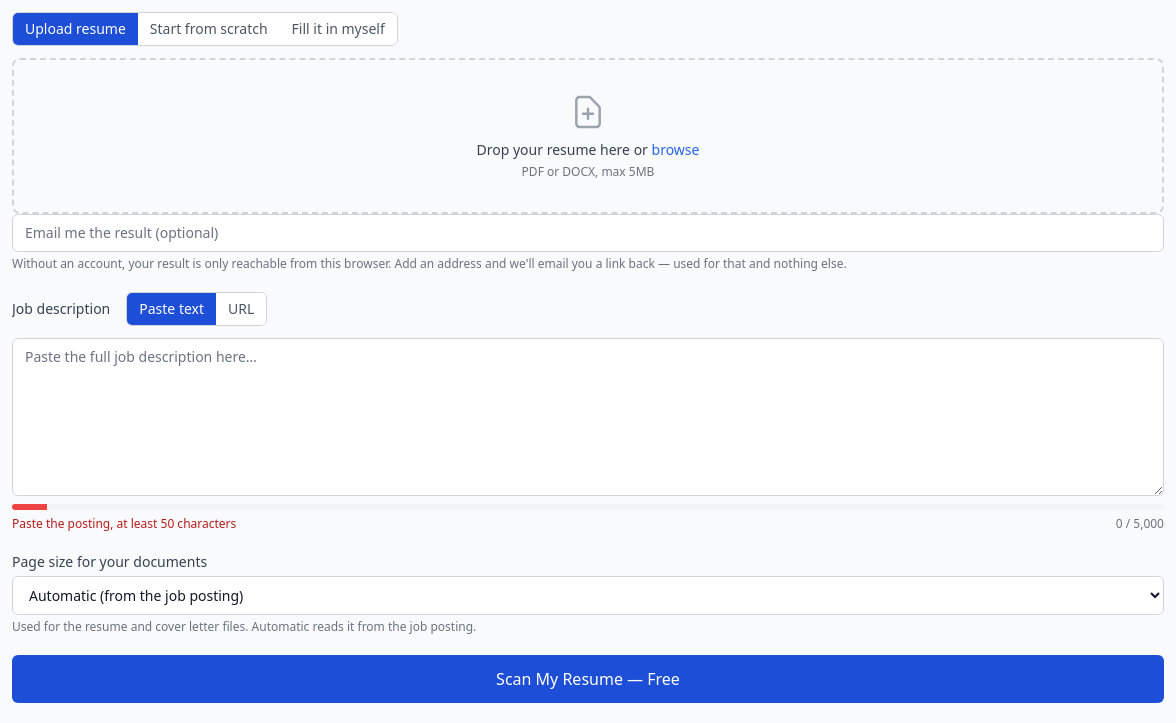
Test case: the homepage card says what the /scan page says › the posting length is judged by the same meter
The width and height of the screenshot is (1176, 723).
In the text box with placeholder "Paste the full job description here…": (588, 417) [12, 338, 1164, 496], type "short text"
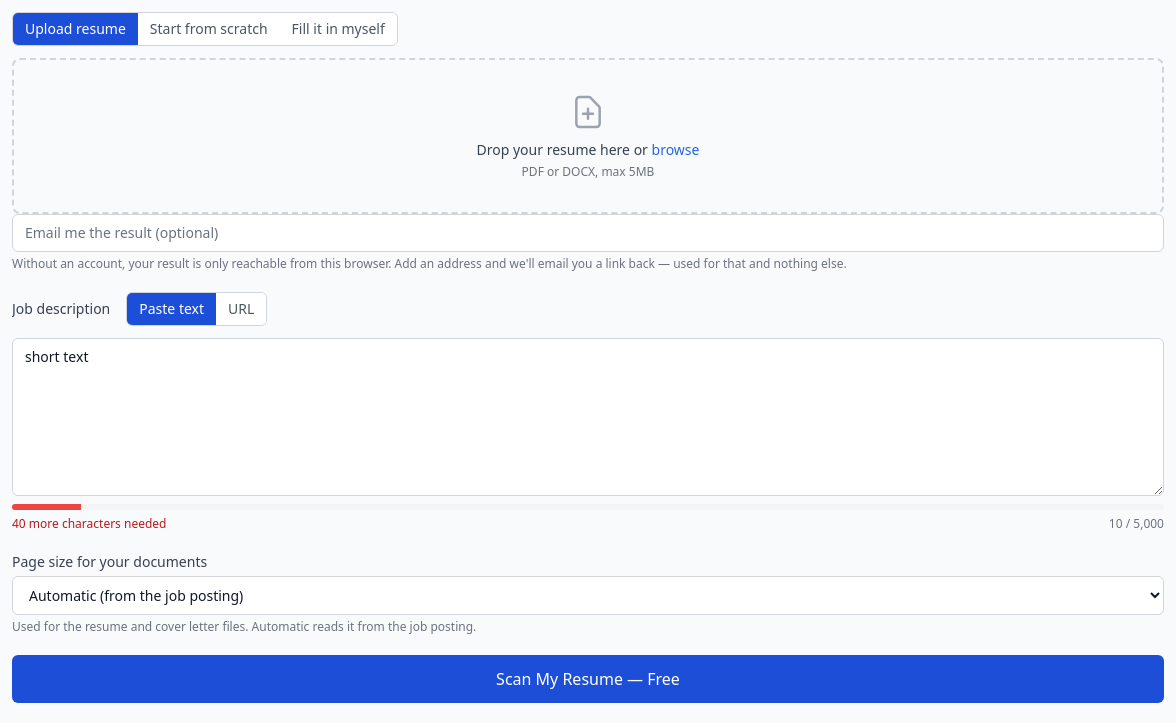
Result: the text with test id "jd-meter-msg" reads "40 more characters needed" at [12, 515, 166, 532]
